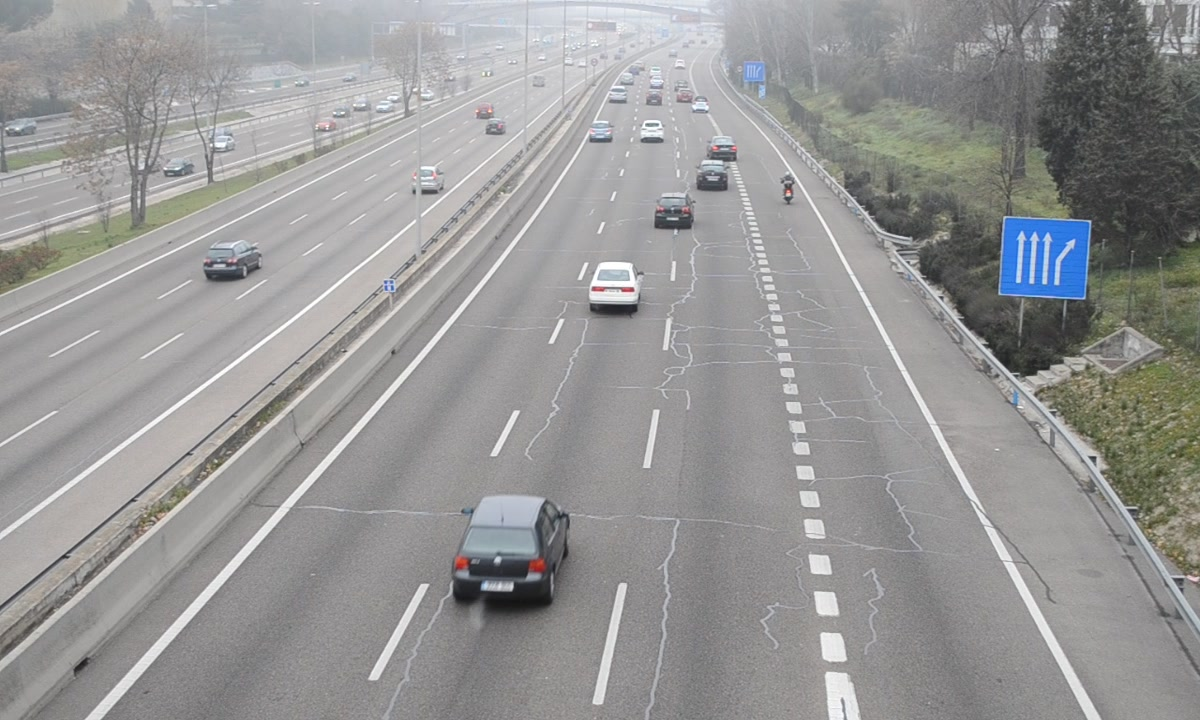car: (453, 496, 570, 593), (590, 261, 643, 308), (655, 192, 695, 230), (697, 160, 729, 192), (708, 135, 740, 159), (639, 118, 666, 142), (588, 120, 613, 142)
motorcycle: (781, 172, 798, 205)
